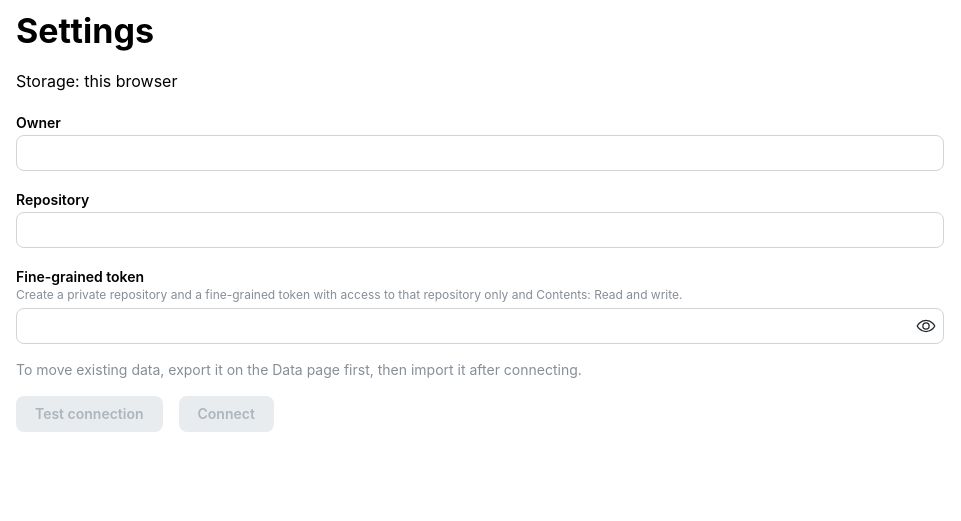
it: SettingsPage with local storage › shows the green alert for a private repository and enables Connect
Type "alice" into the field labelled "Owner" at (480, 153), box [16,135,944,171]
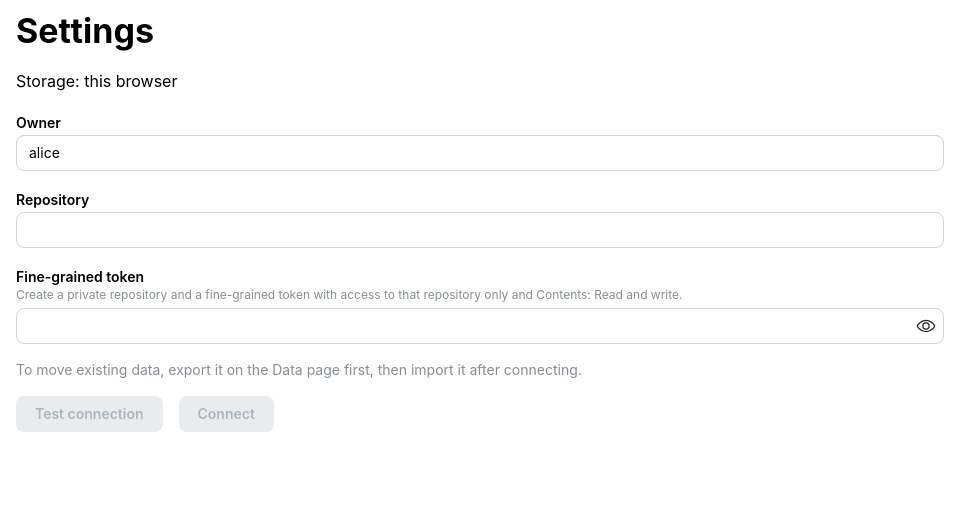
Type "mtg-data" into the field labelled "Repository" at (480, 230), box [16,212,944,248]
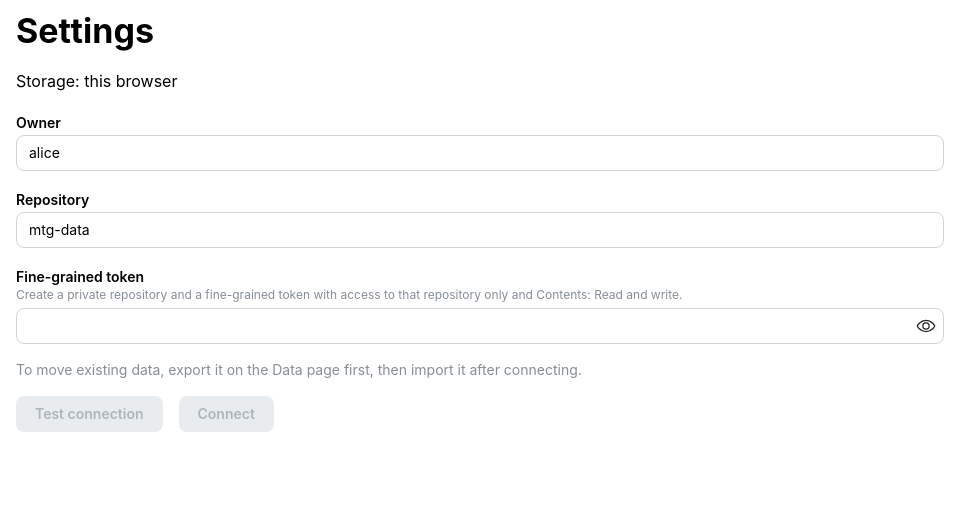
Type "github_pat_settings" into the password field labelled "Fine-grained token" at (480, 326), box [17,309,943,343]
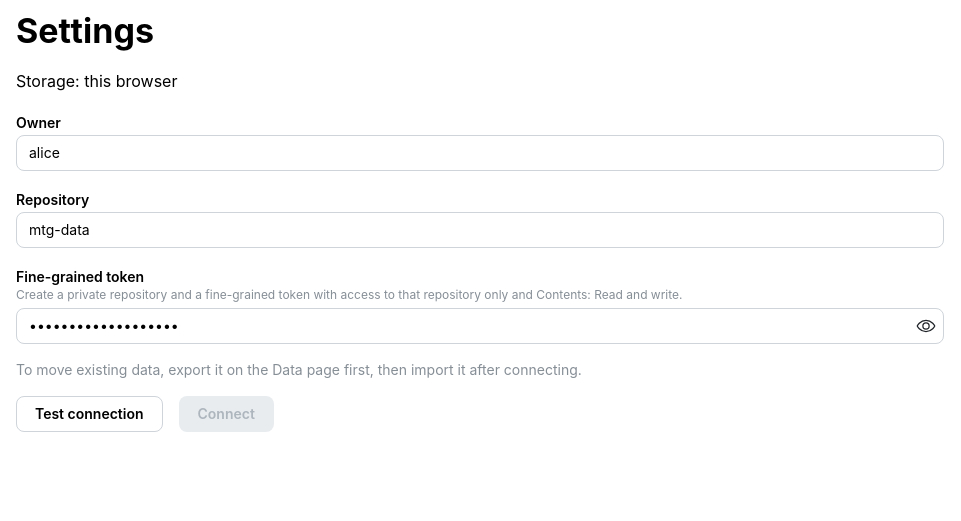
Expected: the button "Connect" is disabled, [178,396,274,432]
Click the button "Test connection" at (89, 414), box [16,396,162,432]
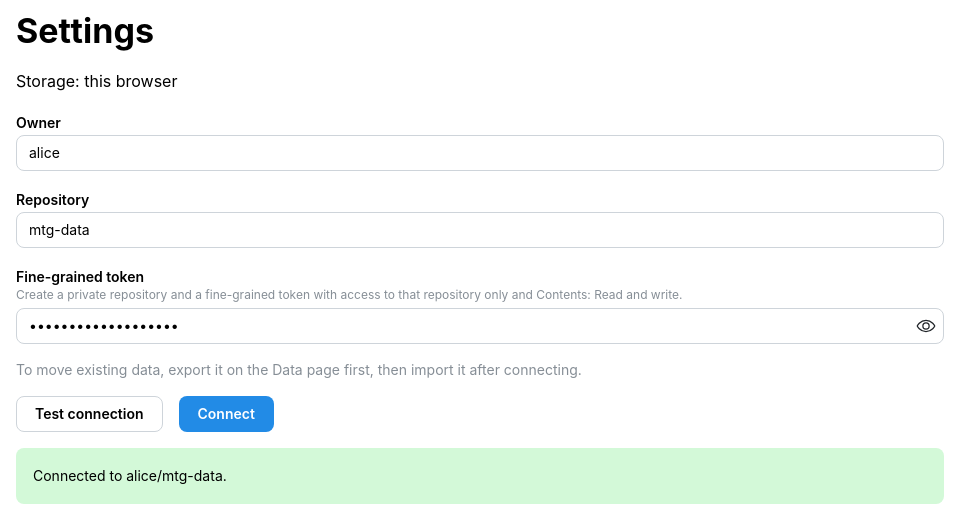
Result: the message "Connected to alice/mtg-data." is shown at [16,448,944,504]
Result: the message reads "Connected to alice/mtg-data." at [33,467,227,484]
Result: the button "Connect" is enabled at [178,396,274,432]
